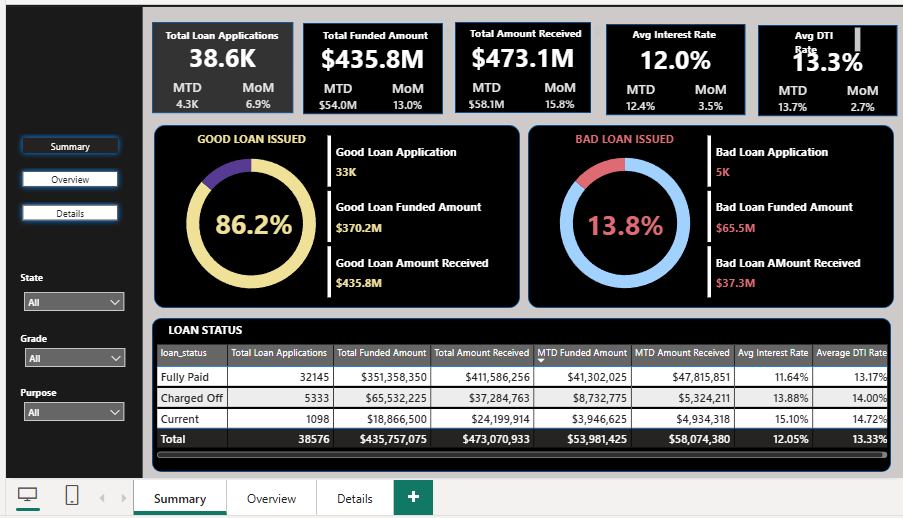

This screenshot's page, from the dashboard's own definition file:
{"tool":"powerbi","page":{"name":"Summary","canvas":[1280,720],"ordinal":0},"visuals":[{"type":"shape","box":[208.7,68,201.5,130],"z":0,"group":"g1"},{"type":"shape","box":[641.3,68.5,194.3,129.8],"z":0,"group":"g4"},{"type":"shape","box":[424.1,70.3,199.7,130],"z":0,"group":"g2"},{"type":"shape","box":[856.2,71.5,198.8,130],"z":0,"group":"g3"},{"type":"shape","box":[1074,73,198.8,130],"z":0,"group":"g5"},{"type":"shape","box":[211.2,215.5,522.3,261.1],"z":0},{"type":"card","fields":{"Values":["bank_load_data.Total Amount Received"]},"box":[623.9,88,228,60.5],"z":1000,"group":"g4"},{"type":"card","fields":{"Values":["bank_load_data.Total Loan Applications"]},"box":[199.8,88.3,217.8,59.1],"z":1000,"group":"g1"},{"type":"card","fields":{"Values":["bank_load_data.Total Funded Amount"]},"box":[415.3,90.6,215.8,59.1],"z":1000,"group":"g2"},{"type":"card","fields":{"Values":["bank_load_data.Avg Interest Rate"]},"box":[847.4,91.8,214.8,59.1],"z":1000,"group":"g3"},{"type":"card","fields":{"Values":["bank_load_data.Average DTI Rate"]},"box":[1065.2,93.2,214.8,59.1],"z":1000,"group":"g5"},{"type":"donutChart","fields":{"Category":["bank_load_data.Good vs Bad Loans"],"Y":["bank_load_data.Total Loan Applications"]},"box":[210.9,236,277.1,241.3],"z":1000},{"type":"shape","box":[0,0,1280,47.1],"z":2000},{"type":"textbox","box":[657.3,67.9,196.9,34.1],"z":2000,"group":"g4"},{"type":"textbox","box":[889.4,69.7,166.3,50.1],"z":2000,"group":"g3"},{"type":"textbox","box":[1120.6,70.9,104.2,54.2],"z":2000,"group":"g5"},{"type":"textbox","box":[222.9,71.2,198.4,32.8],"z":2000,"group":"g1"},{"type":"textbox","box":[446.3,72.1,192.6,34.2],"z":2000,"group":"g2"},{"type":"shape","box":[0,47.1,195.5,673.5],"z":3000},{"type":"card","title":"MTD","fields":{"Values":["bank_load_data.MTD Loan Applications"]},"box":[208.7,147.4,100.8,50.6],"z":3000,"group":"g1"},{"type":"card","title":"MTD","fields":{"Values":["bank_load_data.MTD Amount Received"]},"box":[633.5,148.5,104.4,49.8],"z":3000,"group":"g4"},{"type":"card","title":"MTD","fields":{"Values":["bank_load_data.MTD Funded Amount"]},"box":[424.1,149.7,99.8,50.6],"z":3000,"group":"g2"},{"type":"card","title":"MTD","fields":{"Values":["bank_load_data.MTD Avg Interest Rate"]},"box":[856.2,150.8,99.4,50.6],"z":3000,"group":"g3"},{"type":"card","title":"MTD","fields":{"Values":["bank_load_data.MTD Avg DTI Rate"]},"box":[1074,152.3,99.4,50.6],"z":3000,"group":"g5"},{"type":"card","title":"MoM","fields":{"Values":["bank_load_data.MoM Loan Application"]},"box":[309.4,147.4,100.8,50.6],"z":4000,"group":"g1"},{"type":"card","title":"MoM","fields":{"Values":["bank_load_data.MoM Amount Received"]},"box":[737.9,148.5,106,49.8],"z":4000,"group":"g4"},{"type":"card","title":"MoM","fields":{"Values":["bank_load_data.MoM Funded Amount"]},"box":[523.9,149.7,99.8,50.6],"z":4000,"group":"g2"},{"type":"card","title":"MoM","fields":{"Values":["bank_load_data.MoM Avg Interest Rate"]},"box":[955.6,150.8,99.4,50.6],"z":4000,"group":"g3"},{"type":"card","title":"MoM","fields":{"Values":["bank_load_data.MoM Avg DTI Rate"]},"box":[1173.4,152.3,99.4,50.6],"z":4000,"group":"g5"},{"type":"textbox","box":[268.2,219.9,198.4,32.2],"z":4000},{"type":"card","fields":{"Values":["bank_load_data.Good Loan %"]},"box":[241.3,327.2,225.3,59],"z":5000},{"type":"textbox","box":[466.6,0,346.8,48.5],"z":6000},{"type":"group","id":"g1","title":"Group 1","box":[199.8,68,221.5,130],"z":7000},{"type":"group","id":"g2","title":"Group 2","box":[415.3,70.3,223.7,130],"z":8000},{"type":"group","id":"g3","title":"Group 2","box":[847.4,69.7,214.5,132.3],"z":9000},{"type":"group","id":"g4","title":"Group 3","box":[623.9,67.9,230.6,130.5],"z":10000},{"type":"group","id":"g5","title":"Group 2","box":[1065.2,70.9,214.8,132.1],"z":11000},{"type":"shape","box":[744.9,215.5,522.3,261.1],"z":12000},{"type":"cardVisual","fields":{"Data":["bank_load_data.Good Loan Application","bank_load_data.Good Loan Funded Amount","bank_load_data.Good Loan Amount Received"]},"box":[454.1,225.3,266.4,243.1],"z":13000},{"type":"donutChart","fields":{"Category":["bank_load_data.Good vs Bad Loans"],"Y":["bank_load_data.Total Loan Applications"]},"box":[744.9,234,276.8,242.6],"z":14000},{"type":"card","fields":{"Values":["bank_load_data.Bad Loan %"]},"box":[770.6,326.8,225.5,59.9],"z":15000},{"type":"textbox","box":[807.7,219.8,198.4,31.4],"z":16000},{"type":"cardVisual","fields":{"Data":["bank_load_data.Bad Loan Application","bank_load_data.Bad Loan Funded Amount","bank_load_data.Bad Loan AMount Received"]},"box":[995.8,225.3,266.4,243.1],"z":17000},{"type":"shape","box":[208.3,490.9,1054.5,219.8],"z":18000},{"type":"tableEx","fields":{"Values":["bank_load_data.loan_status","bank_load_data.Total Loan Applications","bank_load_data.Total Funded Amount","bank_load_data.Total Amount Received","bank_load_data.MTD Funded Amount","bank_load_data.MTD Amount Received","bank_load_data.Avg Interest Rate","bank_load_data.Average DTI Rate"]},"box":[209.2,523.8,1053,171.6],"z":19000},{"type":"textbox","box":[227,491.6,139.4,32.2],"z":20000},{"type":"slicer","fields":{"Values":["bank_load_data.address_state"]},"box":[15.7,443.8,162.7,47.1],"z":21000},{"type":"textbox","box":[15.7,419.5,69.9,32.8],"z":22000},{"type":"slicer","fields":{"Values":["bank_load_data.grade"]},"box":[17.1,523.7,162.7,47.1],"z":23000},{"type":"textbox","box":[15.7,506.6,69.9,32.8],"z":24000},{"type":"slicer","fields":{"Values":["bank_load_data.purpose"]},"box":[15.7,600.8,162.7,47.1],"z":25000},{"type":"textbox","box":[15.7,583.6,69.9,32.8],"z":26000},{"type":"pageNavigator","box":[15.7,225.5,152.7,134.1],"z":26001}]}

Visuals, with their boxes on the page's 1280x720 design canvas (x1, y1, x2, y2). These are canvas units, not pixel positions in the 903x518 screenshot, which may show the page scaled, cropped or inside an application window:
shape: (x1=209, y1=68, x2=410, y2=198)
shape: (x1=641, y1=68, x2=836, y2=198)
shape: (x1=424, y1=70, x2=624, y2=200)
shape: (x1=856, y1=72, x2=1055, y2=202)
shape: (x1=1074, y1=73, x2=1273, y2=203)
shape: (x1=211, y1=216, x2=734, y2=477)
card - bank_load_data.Total Amount Received: (x1=624, y1=88, x2=852, y2=148)
card - bank_load_data.Total Loan Applications: (x1=200, y1=88, x2=418, y2=147)
card - bank_load_data.Total Funded Amount: (x1=415, y1=91, x2=631, y2=150)
card - bank_load_data.Avg Interest Rate: (x1=847, y1=92, x2=1062, y2=151)
card - bank_load_data.Average DTI Rate: (x1=1065, y1=93, x2=1280, y2=152)
donutChart - bank_load_data.Good vs Bad Loans x bank_load_data.Total Loan Applications: (x1=211, y1=236, x2=488, y2=477)
shape: (x1=0, y1=0, x2=1280, y2=47)
textbox: (x1=657, y1=68, x2=854, y2=102)
textbox: (x1=889, y1=70, x2=1056, y2=120)
textbox: (x1=1121, y1=71, x2=1225, y2=125)
textbox: (x1=223, y1=71, x2=421, y2=104)
textbox: (x1=446, y1=72, x2=639, y2=106)
shape: (x1=0, y1=47, x2=196, y2=721)
"MTD" card: (x1=209, y1=147, x2=310, y2=198)
"MTD" card: (x1=634, y1=148, x2=738, y2=198)
"MTD" card: (x1=424, y1=150, x2=524, y2=200)
"MTD" card: (x1=856, y1=151, x2=956, y2=201)
"MTD" card: (x1=1074, y1=152, x2=1173, y2=203)
"MoM" card: (x1=309, y1=147, x2=410, y2=198)
"MoM" card: (x1=738, y1=148, x2=844, y2=198)
"MoM" card: (x1=524, y1=150, x2=624, y2=200)
"MoM" card: (x1=956, y1=151, x2=1055, y2=201)
"MoM" card: (x1=1173, y1=152, x2=1273, y2=203)
textbox: (x1=268, y1=220, x2=467, y2=252)
card - bank_load_data.Good Loan %: (x1=241, y1=327, x2=467, y2=386)
textbox: (x1=467, y1=0, x2=813, y2=48)
"Group 1" group: (x1=200, y1=68, x2=421, y2=198)
"Group 2" group: (x1=415, y1=70, x2=639, y2=200)
"Group 2" group: (x1=847, y1=70, x2=1062, y2=202)
"Group 3" group: (x1=624, y1=68, x2=854, y2=198)
"Group 2" group: (x1=1065, y1=71, x2=1280, y2=203)
shape: (x1=745, y1=216, x2=1267, y2=477)
cardVisual - bank_load_data.Good Loan Application x bank_load_data.Good Loan Funded Amount: (x1=454, y1=225, x2=720, y2=468)
donutChart - bank_load_data.Good vs Bad Loans x bank_load_data.Total Loan Applications: (x1=745, y1=234, x2=1022, y2=477)
card - bank_load_data.Bad Loan %: (x1=771, y1=327, x2=996, y2=387)
textbox: (x1=808, y1=220, x2=1006, y2=251)
cardVisual - bank_load_data.Bad Loan Application x bank_load_data.Bad Loan Funded Amount: (x1=996, y1=225, x2=1262, y2=468)
shape: (x1=208, y1=491, x2=1263, y2=711)
tableEx - bank_load_data.loan_status x bank_load_data.Total Loan Applications: (x1=209, y1=524, x2=1262, y2=695)
textbox: (x1=227, y1=492, x2=366, y2=524)
slicer - bank_load_data.address_state: (x1=16, y1=444, x2=178, y2=491)
textbox: (x1=16, y1=420, x2=86, y2=452)
slicer - bank_load_data.grade: (x1=17, y1=524, x2=180, y2=571)
textbox: (x1=16, y1=507, x2=86, y2=539)
slicer - bank_load_data.purpose: (x1=16, y1=601, x2=178, y2=648)
textbox: (x1=16, y1=584, x2=86, y2=616)
pageNavigator: (x1=16, y1=226, x2=168, y2=360)
